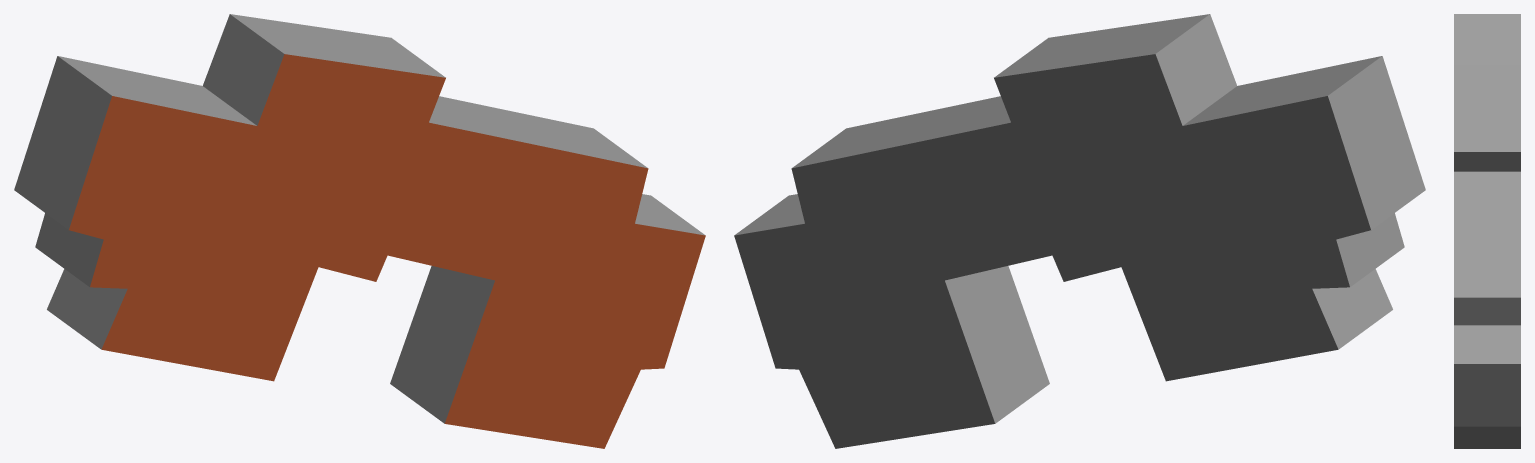
File: construction_2705_assumed_A_Casa_h6m.obj
3 views of the same model, side by side, from view 1: azimuth 30°, elevation 25°; view 2: azimuth 150°, elevation 25°; view 3: azimuth 270°, elevation 25° (orthographic). The views are drawn at different scales.
Visible parts, largest first — view 1: construction_2705_assumed_A_Casa; view 2: construction_2705_assumed_A_Casa; view 3: construction_2705_assumed_A_Casa.
Part boxes in pixels (x1,y1,x2,y2): construction_2705_assumed_A_Casa: [14, 14, 705, 448]; construction_2705_assumed_A_Casa: [734, 14, 1425, 448]; construction_2705_assumed_A_Casa: [1454, 14, 1520, 448].
Size of the model in its own units: 40.34 by 28.63 by 6.
